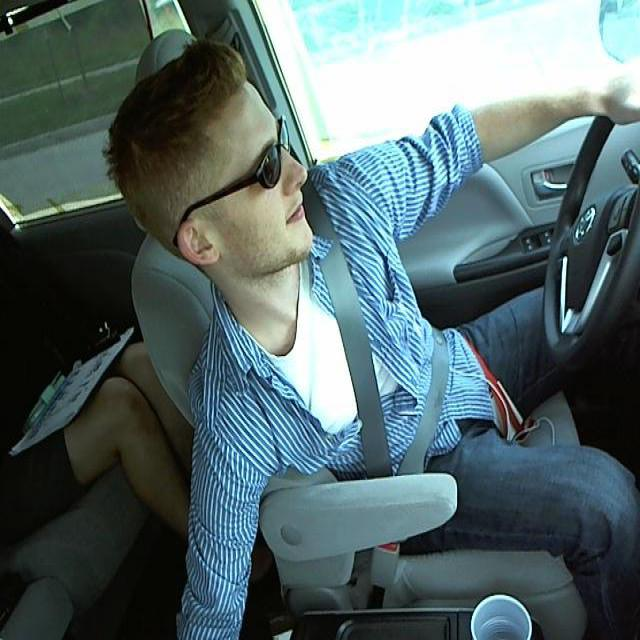seatbelt: (310, 236, 464, 457)
